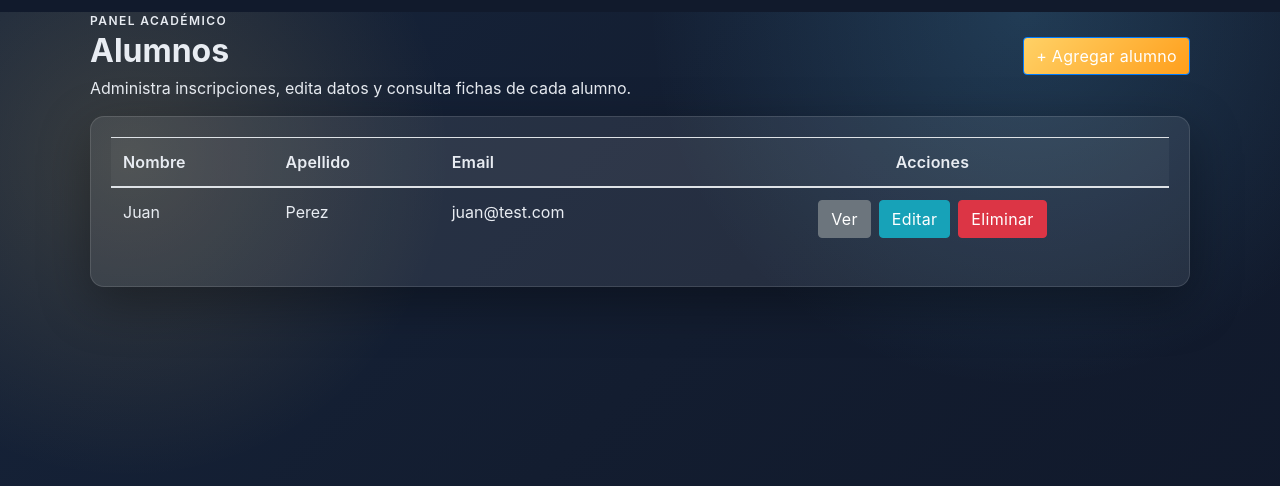
Test: elimina un alumno y actualiza el DOM
The width and height of the screenshot is (1280, 486).
Click the button "Eliminar" at (1003, 219), box [958,200,1047,238]
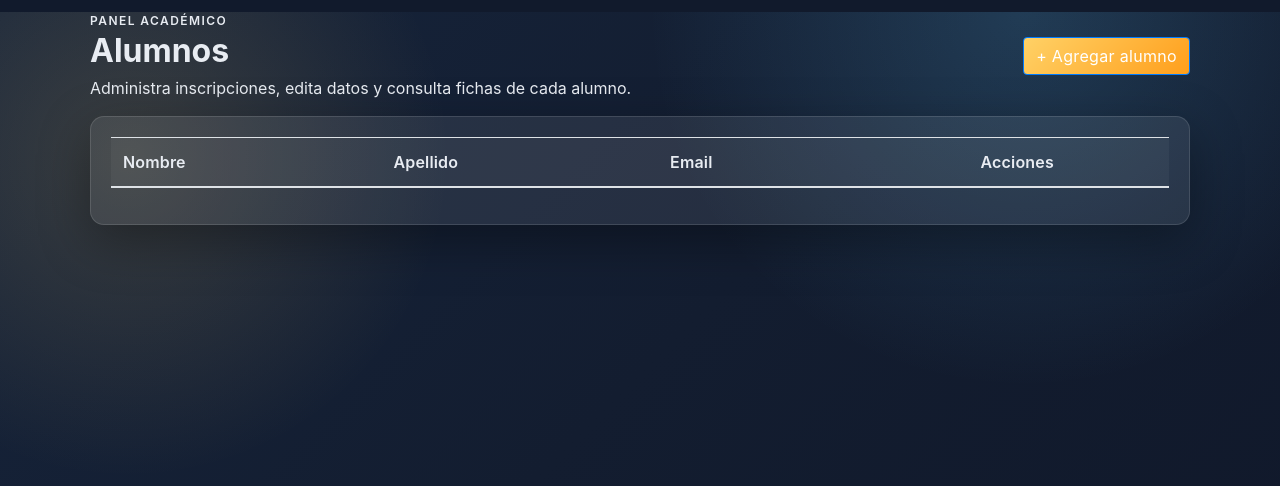
Expected: the text "Juan" is gone
